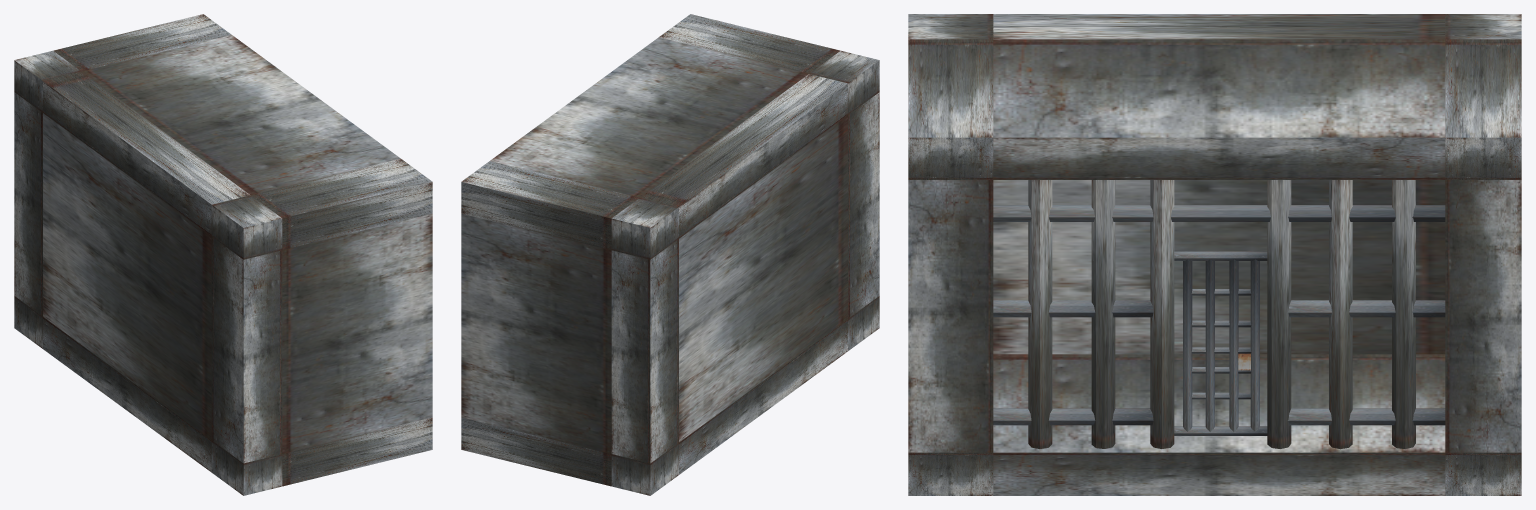
File: cell_textured.fbx
The picture shows the model from 3 angles, left to right: view 1: azimuth 30°, elevation 25°; view 2: azimuth 150°, elevation 25°; view 3: azimuth 270°, elevation 25°; orthographic projection. The views are drawn at different scales.
Parts seen in each view (by area): view 1: Cube; view 2: Cube; view 3: Cube, Cylinder.001, Cylinder.002, Cylinder.024, Cylinder.005, Cylinder.003, Cylinder.004, Cylinder, Cylinder.007, Cylinder.006, Cylinder.022, Cylinder.008 (+6 smaller).
Part boxes in pixels (<box>): Cube: <box>14,14,432,495</box>; Cube: <box>461,14,879,495</box>; Cube: <box>908,14,1521,495</box>; Cylinder.001: <box>1150,180,1174,448</box>; Cylinder.002: <box>1267,180,1291,448</box>; Cylinder.024: <box>1091,180,1115,448</box>; Cylinder.005: <box>1028,180,1052,448</box>; Cylinder.003: <box>1392,180,1415,448</box>; Cylinder.004: <box>1329,180,1352,449</box>; Cylinder: <box>993,205,1445,221</box>; Cylinder.007: <box>993,408,1153,425</box>; Cylinder.006: <box>993,300,1153,317</box>; Cylinder.022: <box>1288,300,1445,317</box>; Cylinder.008: <box>1287,408,1445,425</box>.
Size of the model in its own units: 972 by 1316 by 2041.
